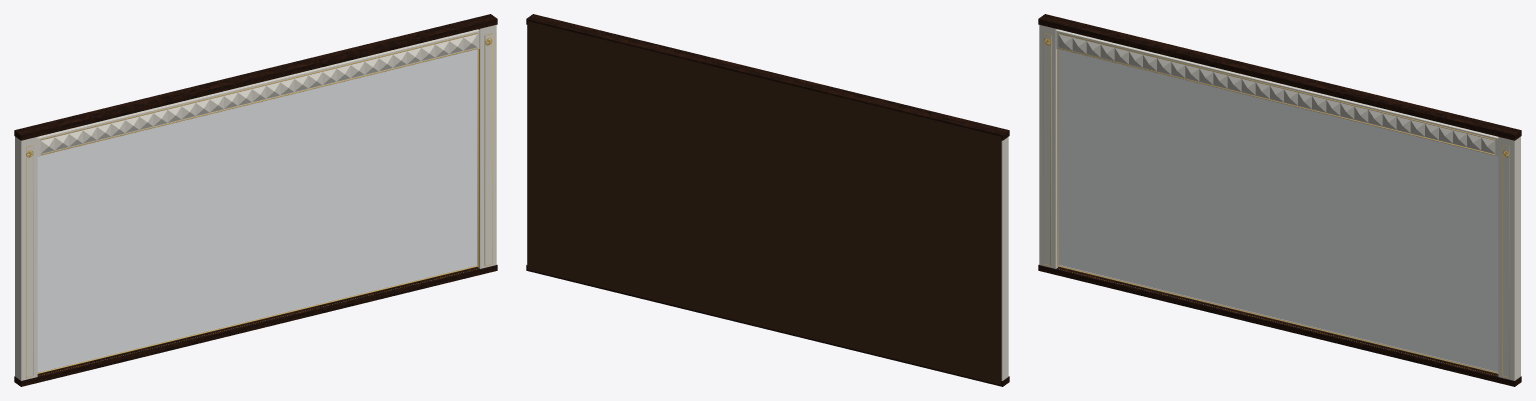
3 views of the same model, side by side, from view 1: azimuth 30°, elevation 25°; view 2: azimuth 150°, elevation 25°; view 3: azimuth 330°, elevation 25° (orthographic).
Parts seen in each view (by area): view 1: Belgravia landscape dining mirror | dining-21 web batch; view 2: Belgravia landscape dining mirror | dining-21 web batch; view 3: Belgravia landscape dining mirror | dining-21 web batch.
Boxes of the visible parts, x1,y1,x2,y2 form: Belgravia landscape dining mirror | dining-21 web batch: (14,14,497,386); Belgravia landscape dining mirror | dining-21 web batch: (526,14,1009,386); Belgravia landscape dining mirror | dining-21 web batch: (1038,14,1521,386).
Size of the model in its own units: 2.12 by 1.07 by 0.06.
Materials: 8 (1 with a texture image).
